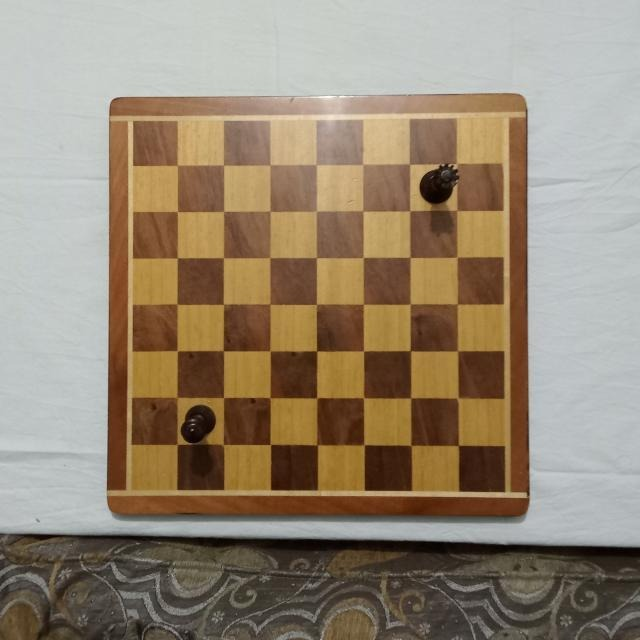black-king: (181, 402, 217, 442)
black-queen: (419, 160, 461, 204)
